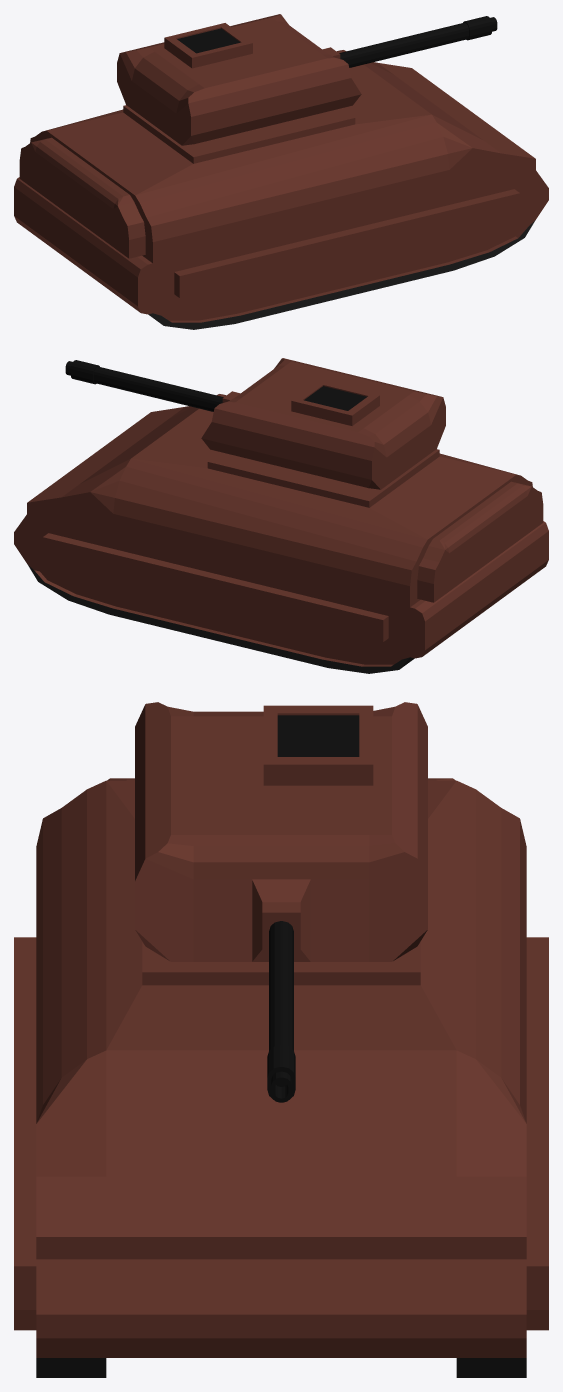
The model's file is scene_QfQoVAohYR.glb.
The picture shows the model from 3 angles, top to bottom: view 1: azimuth 30°, elevation 25°; view 2: azimuth 150°, elevation 25°; view 3: azimuth 270°, elevation 25°; orthographic projection. The views are drawn at different scales.
Visible parts, largest first — view 1: Cube; view 2: Cube; view 3: Cube.
Boxes of the visible parts, bbox=[...] form: Cube: bbox=[14, 14, 548, 329]; Cube: bbox=[14, 358, 548, 673]; Cube: bbox=[14, 702, 548, 1377].
Bounding box in the file's own units: 5.07 × 2.54 × 2.82.
